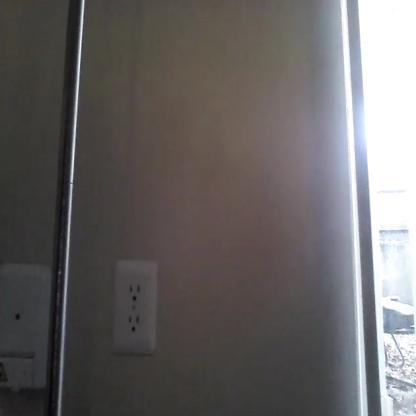OUTLET: (114, 261, 156, 353)
